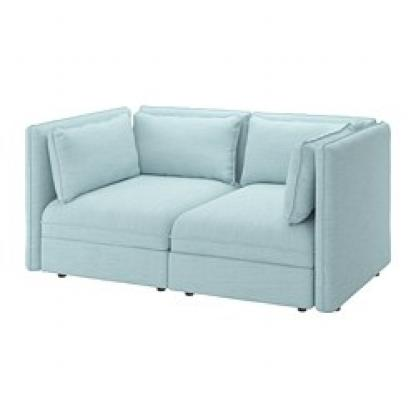Sofa: (17, 87, 394, 336)
